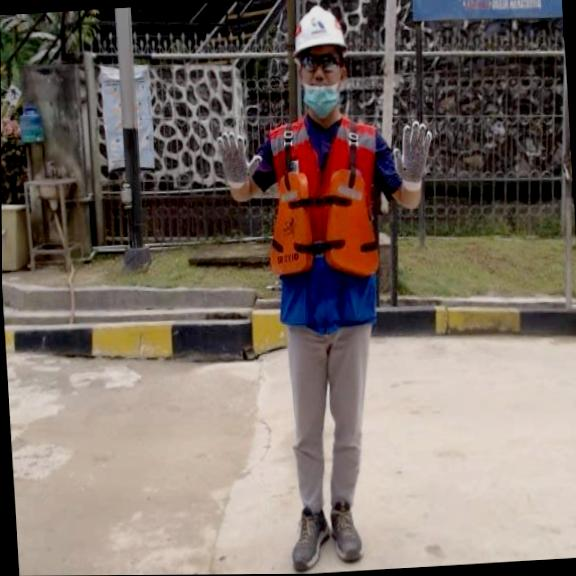safety_vest: (264, 165, 381, 281)
